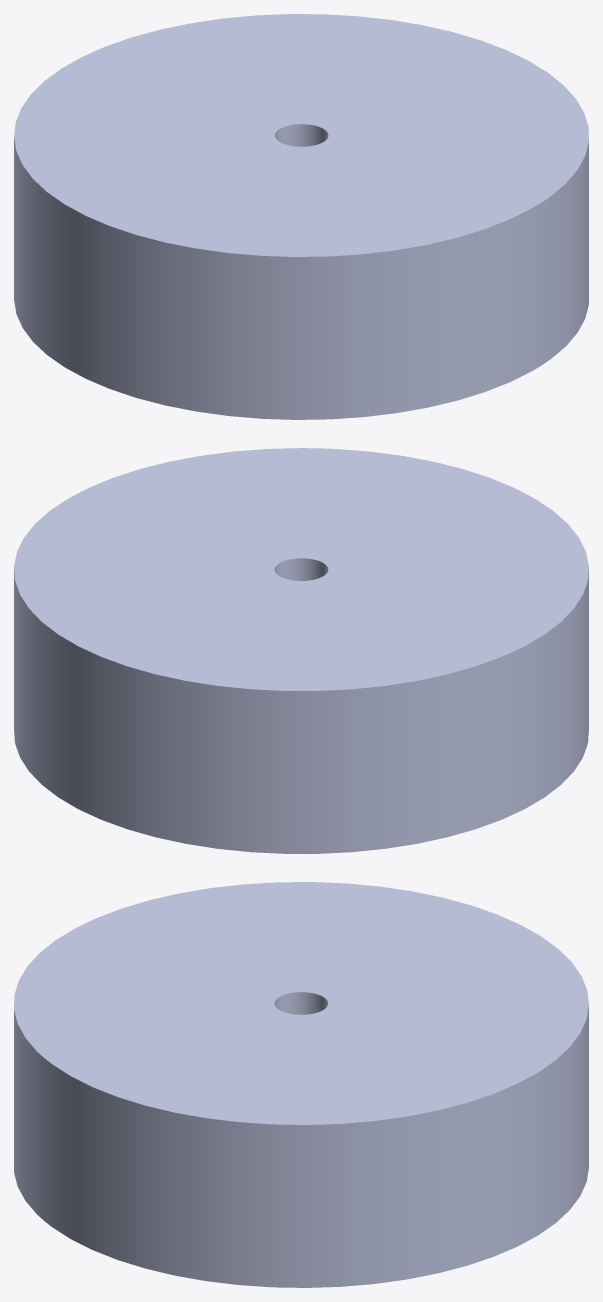
Rendered from wheel_1.dae.
3 renders of one model, top to bottom at view 1: azimuth 30°, elevation 25°; view 2: azimuth 150°, elevation 25°; view 3: azimuth 270°, elevation 25°, orthographic.
Parts seen in each view (by area): view 1: node0; view 2: node0; view 3: node0.
Boxes of the visible parts, <box> form: node0: <box>14,14,588,419</box>; node0: <box>14,448,588,853</box>; node0: <box>14,882,588,1287</box>.
Size of the model in its own units: 0.1599 by 0.05 by 0.1599.
